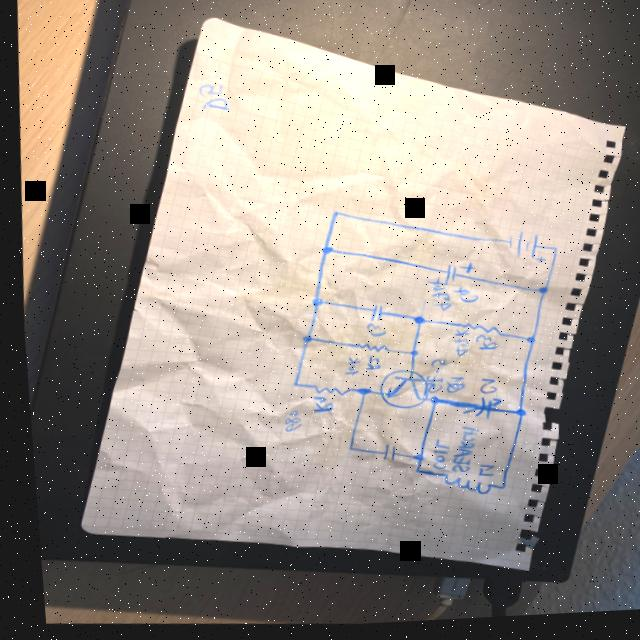capacitor: (454, 399, 496, 427), (436, 266, 471, 292), (373, 446, 391, 468), (363, 308, 381, 326)
inductor: (433, 475, 485, 503)
junction: (518, 338, 533, 351), (304, 300, 321, 311), (506, 412, 521, 424), (530, 291, 546, 302), (406, 319, 421, 330), (315, 248, 330, 259), (350, 390, 365, 401), (404, 457, 419, 467), (295, 337, 308, 347), (422, 400, 434, 410), (401, 353, 413, 362), (327, 213, 337, 222), (284, 384, 294, 392), (490, 489, 499, 496), (339, 449, 348, 455), (546, 252, 555, 258), (406, 473, 412, 478)
resistor: (450, 325, 498, 342), (305, 386, 345, 401), (347, 344, 385, 359)
source: (501, 236, 543, 271)
text: (440, 429, 475, 479), (420, 283, 450, 318), (417, 361, 443, 399), (422, 442, 444, 475), (445, 333, 466, 363), (274, 411, 297, 436), (302, 398, 328, 418), (449, 291, 475, 310), (467, 339, 493, 357), (438, 379, 460, 399), (470, 382, 492, 402), (358, 325, 382, 343), (337, 359, 355, 381), (358, 358, 376, 376), (468, 468, 488, 483)
transistor: (371, 371, 426, 416)
